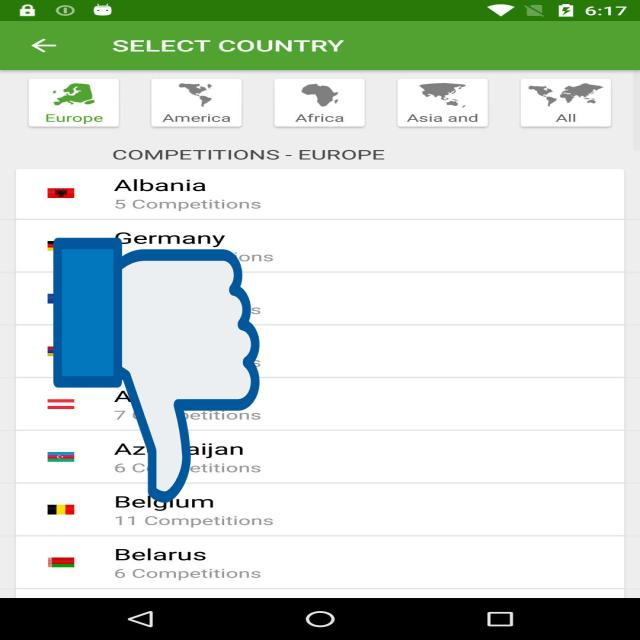obstruction: (54, 232, 260, 509)
